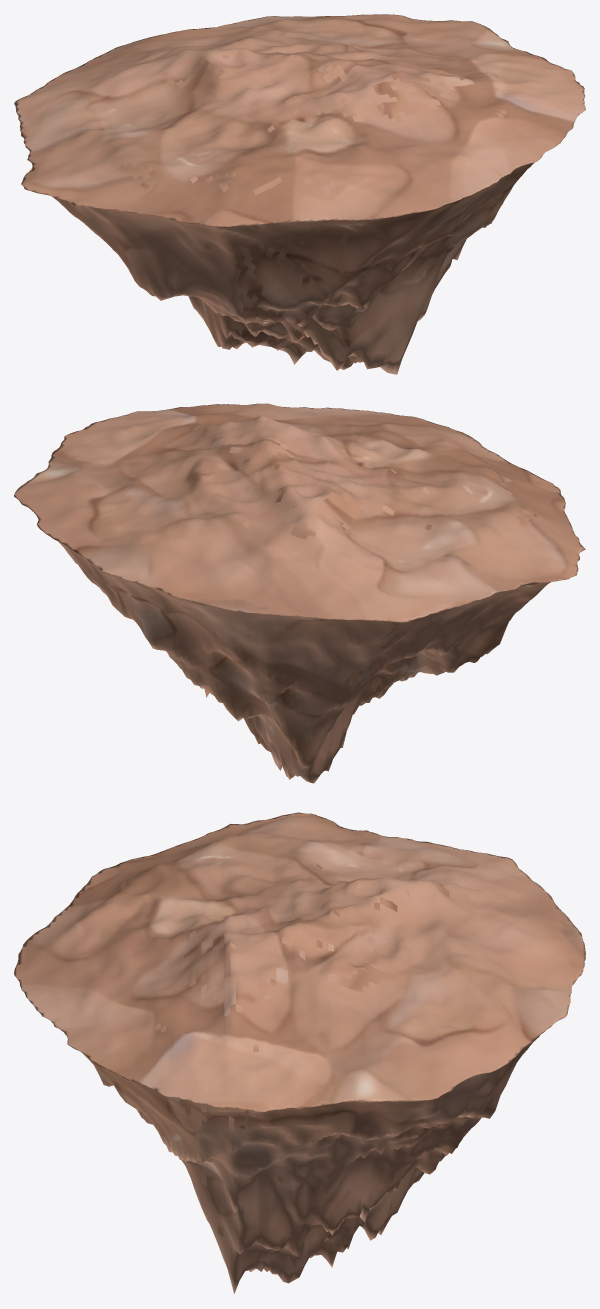
Rendered from island.glb.
3 renders of one model, top to bottom at view 1: azimuth 30°, elevation 25°; view 2: azimuth 150°, elevation 25°; view 3: azimuth 270°, elevation 25°, orthographic. The views are drawn at different scales.
Parts seen in each view (by area): view 1: Landscape.001; view 2: Landscape.001; view 3: Landscape.001.
Part boxes in pixels (x1,y1,x2,y2): Landscape.001: (14, 14, 585, 374); Landscape.001: (14, 403, 585, 783); Landscape.001: (14, 812, 585, 1293).
Bounding box in the file's own units: 3.15 × 1.76 × 2.54.
Materials: 1 (1 with a texture image).
